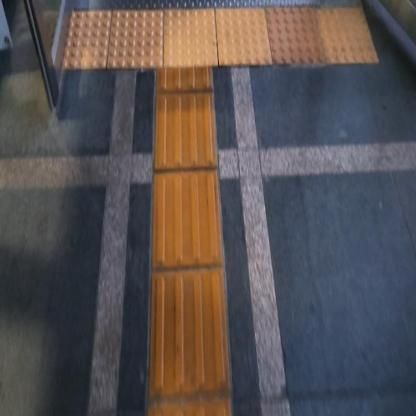podotacti: (152, 67, 228, 415), (62, 4, 374, 68)
